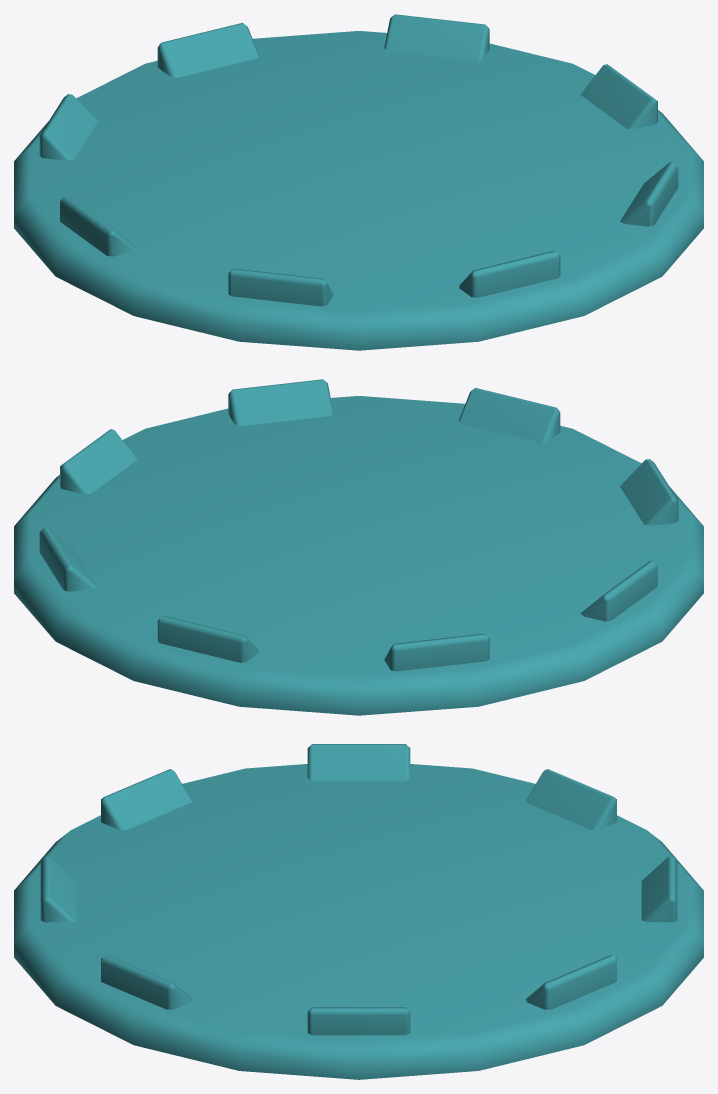
File: Platform_01.fbx
3 views of the same model, one above another, from view 1: azimuth 30°, elevation 25°; view 2: azimuth 150°, elevation 25°; view 3: azimuth 270°, elevation 25° (orthographic).
Visible parts, largest first — view 1: Platform; view 2: Platform; view 3: Platform.
Part boxes in pixels (x1,y1,x2,y2): Platform: [14, 14, 703, 350]; Platform: [14, 379, 703, 715]; Platform: [14, 744, 703, 1079].
Bounding box in the file's own units: 498 × 43.29 × 491.
